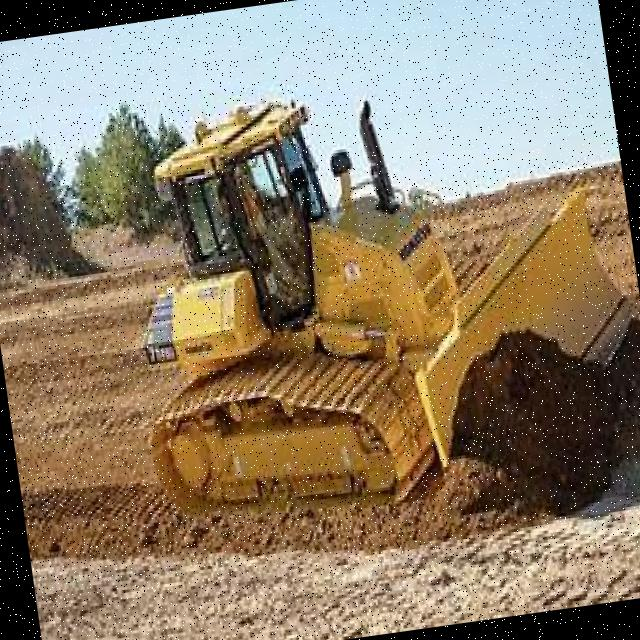Bulldozer: (90, 47, 640, 609)
